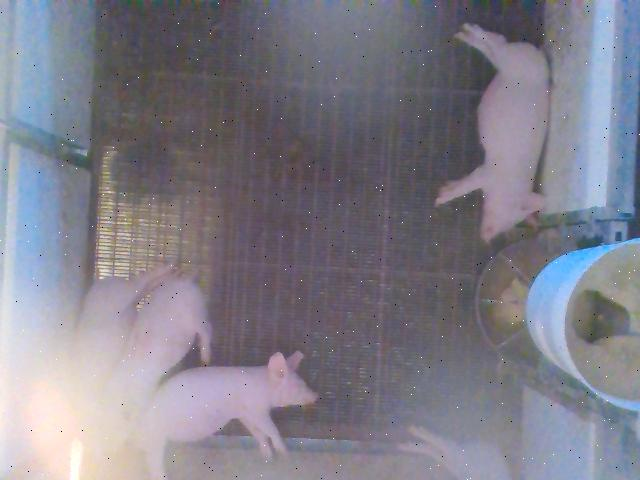pig-4: (102, 276, 211, 451)
